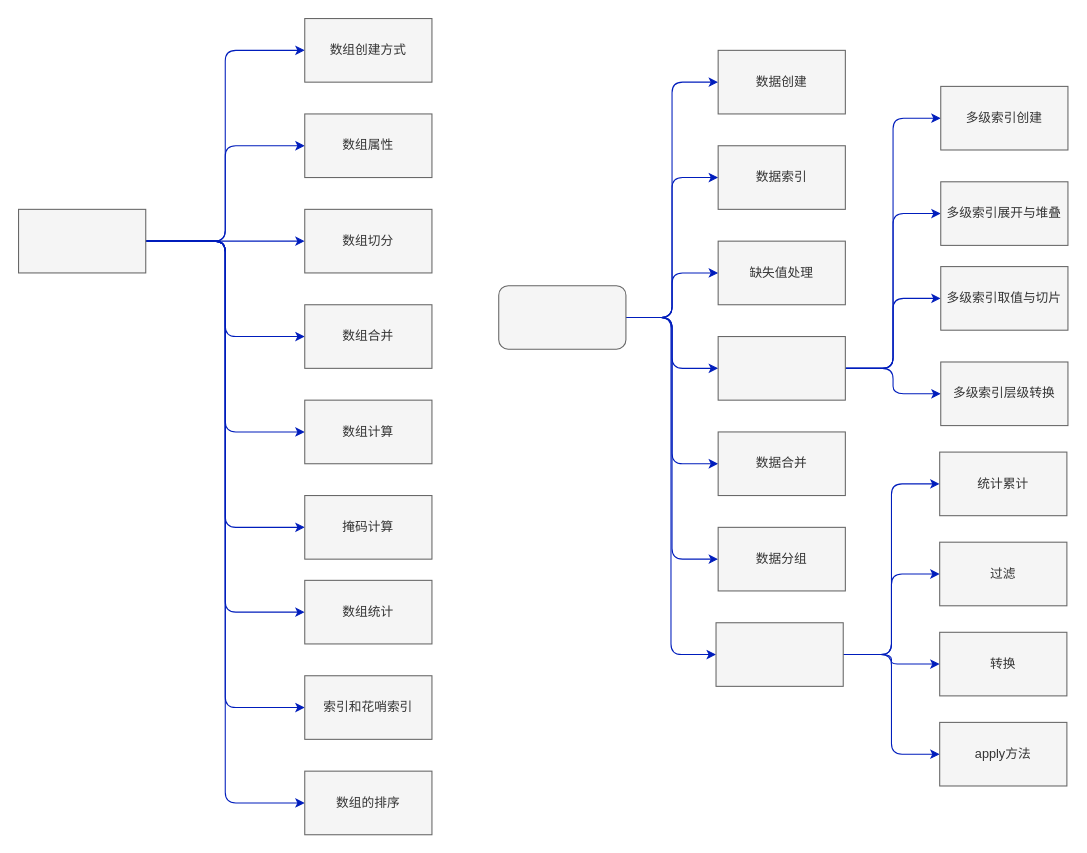
This 1087x853 diagram has some shape labels left out. Here are the shapes that lost their labels. From the top down, the centre of each, then its label:
At point 81,240: "numpy结构".
At point 562,317: "pandas结构".
At point 781,367: "多级索引".
At point 779,654: "数据聚合".
